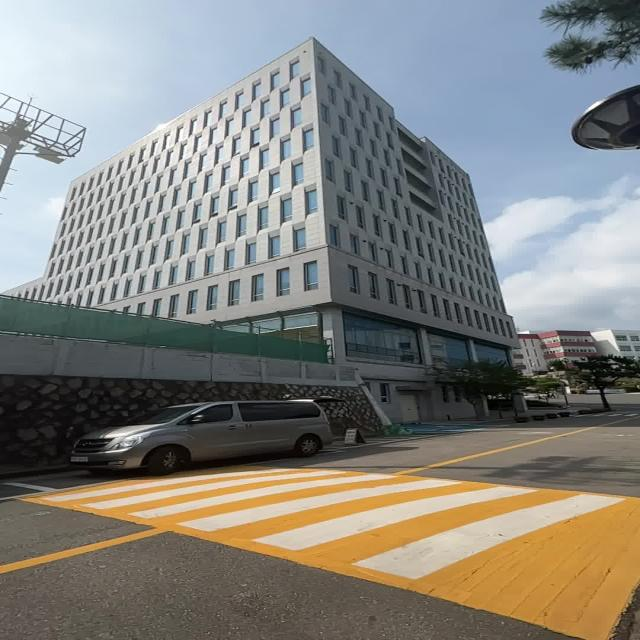building: (23, 34, 510, 324)
